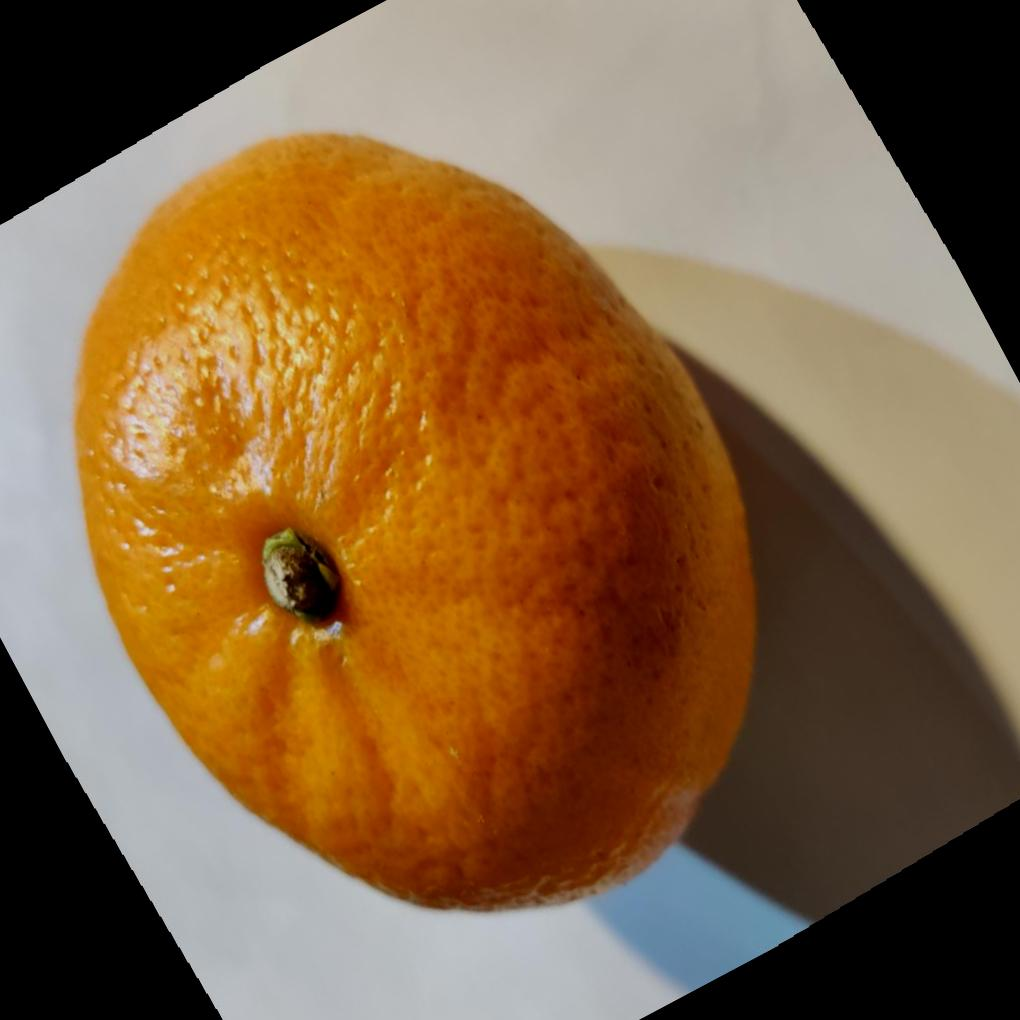FreshGuava: (72, 127, 763, 914)
